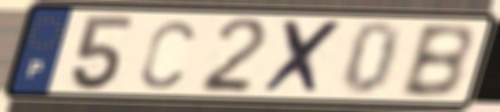0: (341, 20, 405, 99)
2: (198, 16, 272, 96)
5: (68, 13, 138, 93)
B: (396, 21, 476, 101)
C: (137, 17, 197, 91)
X: (259, 17, 348, 97)
